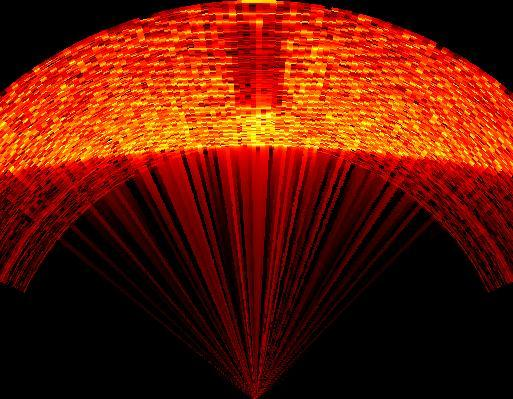box_crate: (221, 10, 292, 135)
